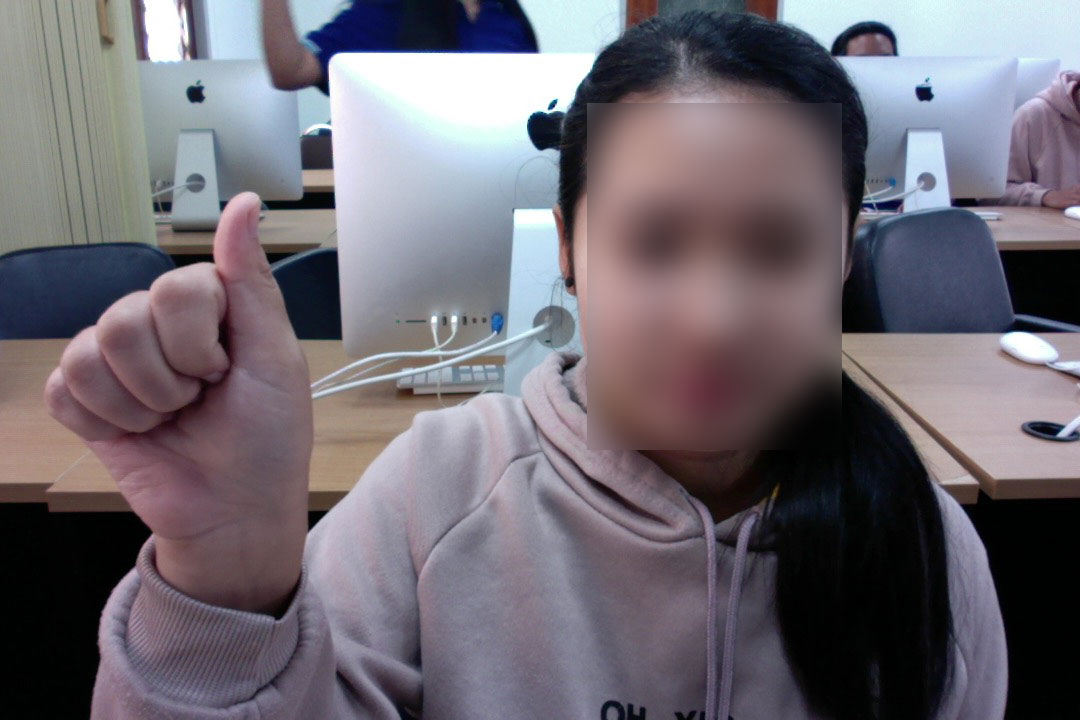or: (39, 181, 331, 577)
